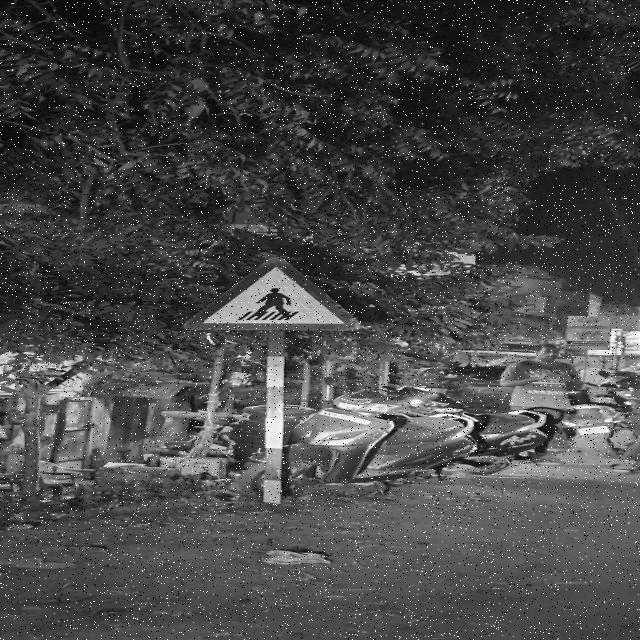Pedestrain_crossing: (172, 255, 398, 331)
